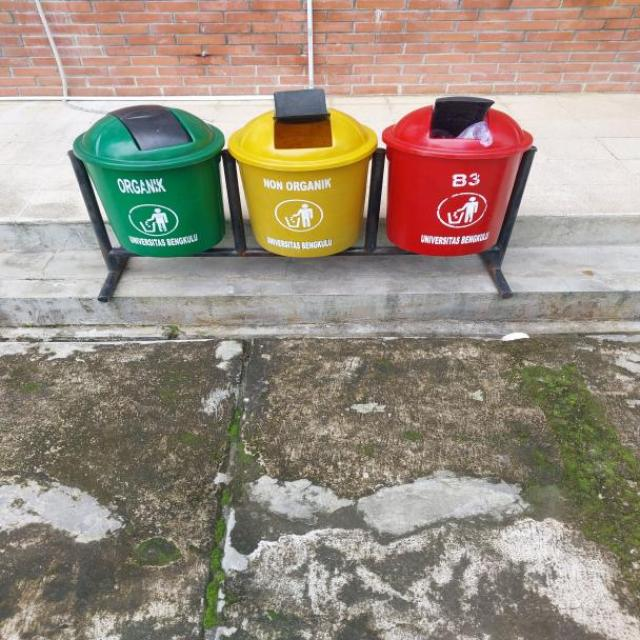dustbin ahead at: (66, 76, 534, 271)
